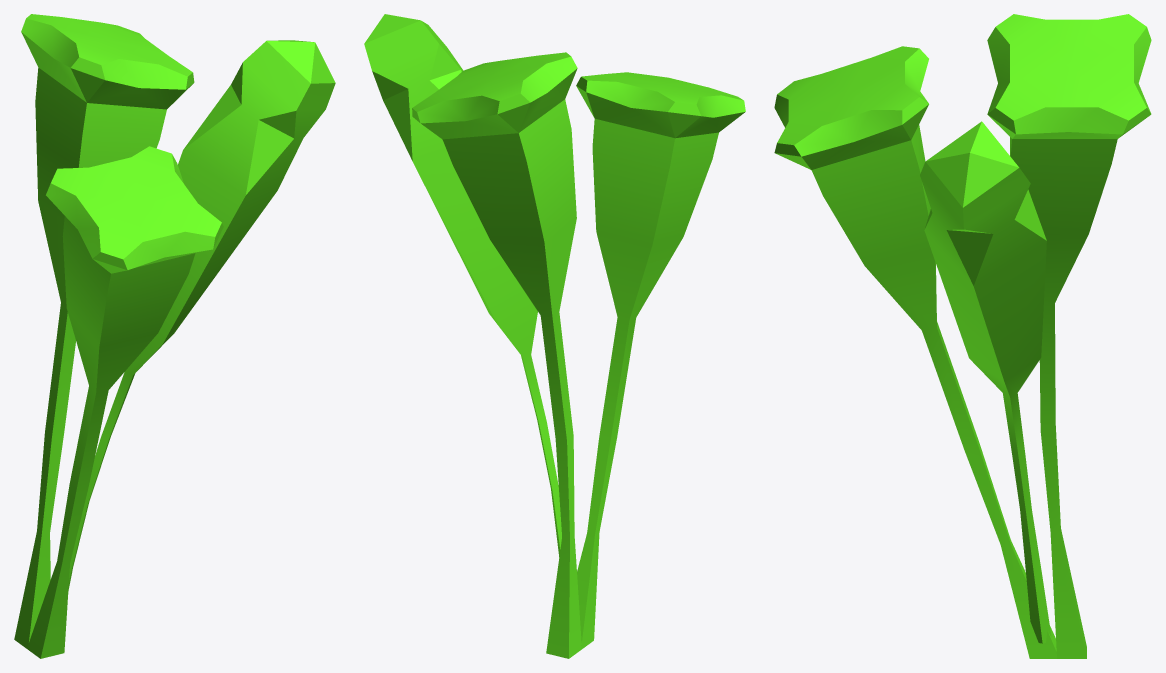
Rendered from SM_Flower_1.FBX.
3 views of the same model, side by side, from view 1: azimuth 30°, elevation 25°; view 2: azimuth 150°, elevation 25°; view 3: azimuth 270°, elevation 25° (orthographic). The views are drawn at different scales.
Parts seen in each view (by area): view 1: 1; view 2: 1; view 3: 1.
Part boxes in pixels (bbox=[...]): 1: bbox=[14, 14, 335, 658]; 1: bbox=[364, 14, 745, 658]; 1: bbox=[774, 14, 1151, 658].
Bounding box in the file's own units: 2.31 × 4.17 × 2.19.
